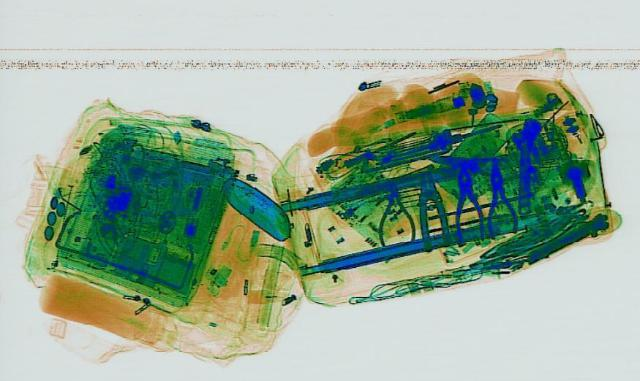Pliers: (406, 169, 456, 250), (477, 157, 519, 238), (372, 178, 418, 245), (448, 164, 484, 245)
Wrench: (510, 116, 542, 213)
